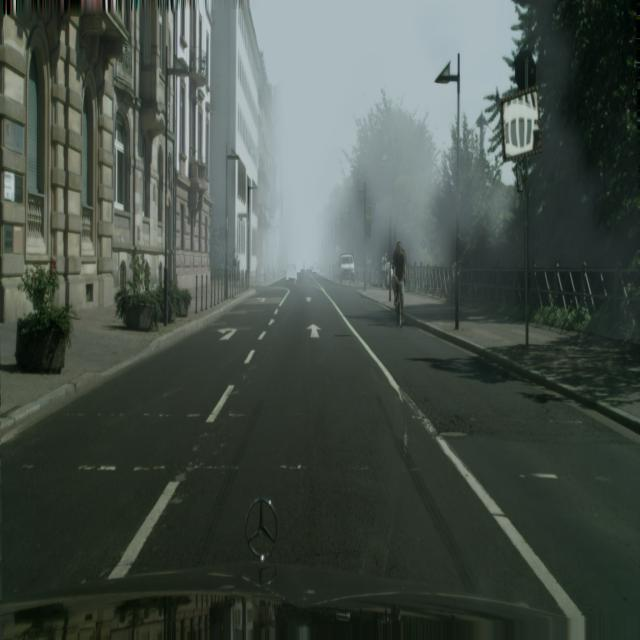car: (389, 236, 407, 326)
person: (379, 250, 391, 288)
truck: (339, 253, 356, 285)
